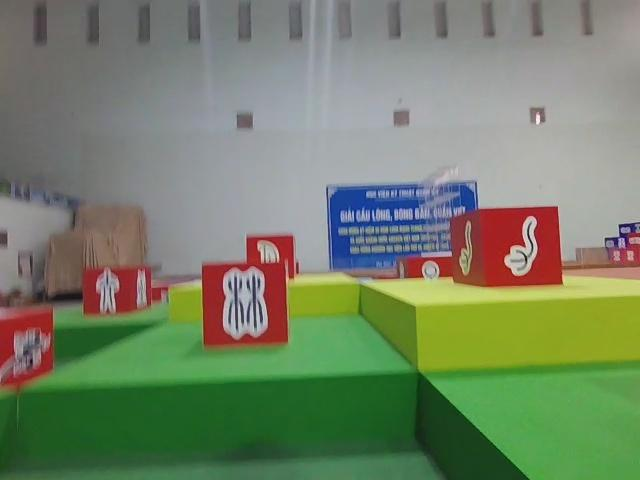R1: (0, 302, 55, 389)
R2 Fake: (199, 257, 291, 348), (81, 264, 154, 319)
R2 Real: (447, 201, 566, 289)
